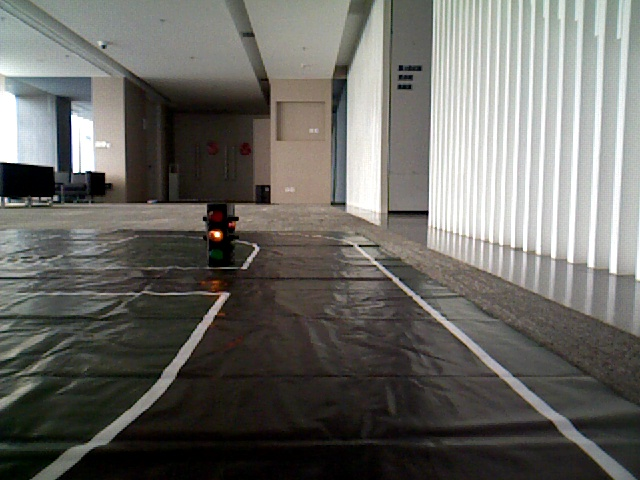yellow: (207, 202, 227, 256)
